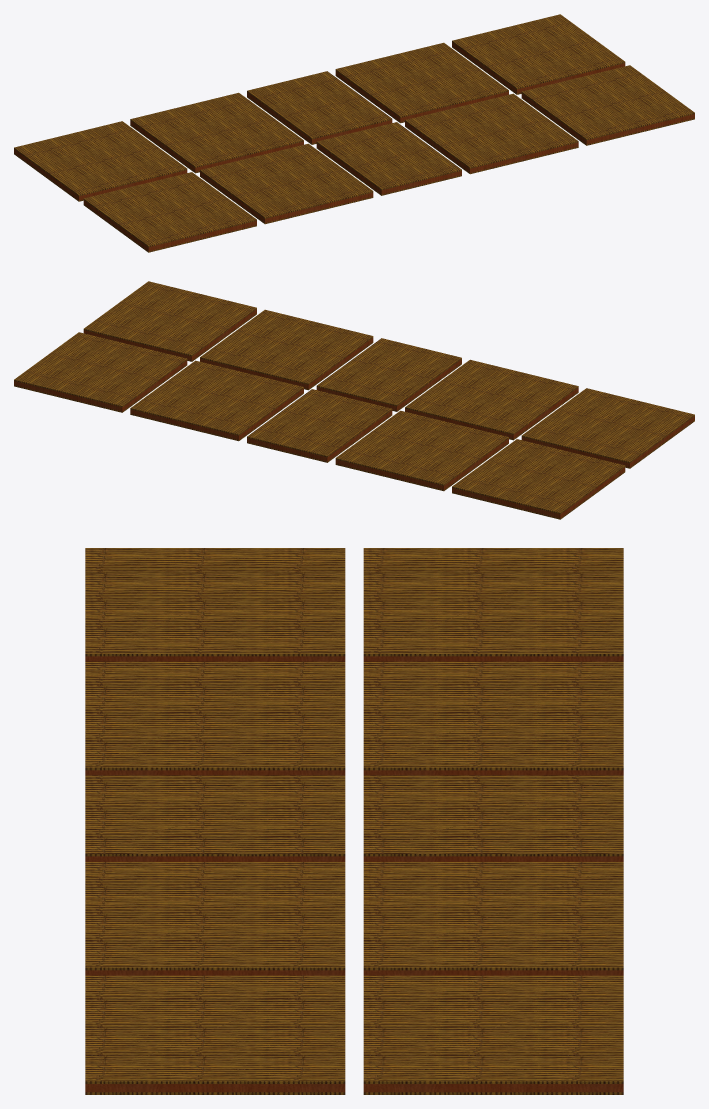
The model's file is 07 TUMBADO.glb.
The picture shows the model from 3 angles, top to bottom: view 1: azimuth 30°, elevation 25°; view 2: azimuth 150°, elevation 25°; view 3: azimuth 270°, elevation 25°; orthographic projection. The views are drawn at different scales.
Parts seen in each view (by area): view 1: 139819 (×8), 140163, 139991, 139818 (×8); view 2: 139819 (×8), 139991, 140163, 139816 (×8); view 3: 139819 (×8), 139991, 140163, 139815 (×8), 139987, 140132.
Part boxes in pixels (<box>): 139819 (×8): <box>14,14,694,247</box>; 140163: <box>247,71,392,139</box>; 139991: <box>316,122,461,190</box>; 139818 (×8): <box>83,64,690,250</box>; 139819 (×8): <box>14,281,694,514</box>; 139991: <box>316,338,461,406</box>; 140163: <box>247,389,392,457</box>; 139816 (×8): <box>18,331,625,517</box>; 139819 (×8): <box>85,548,623,1083</box>; 139991: <box>85,775,345,856</box>; 140163: <box>363,775,623,856</box>; 139815 (×8): <box>85,656,623,1092</box>; 139987: <box>85,856,345,861</box>; 140132: <box>363,856,623,861</box>.
Bounding box in the file's own units: 6.8 × 0.08 × 2.9.
126 materials, 126 textured.
